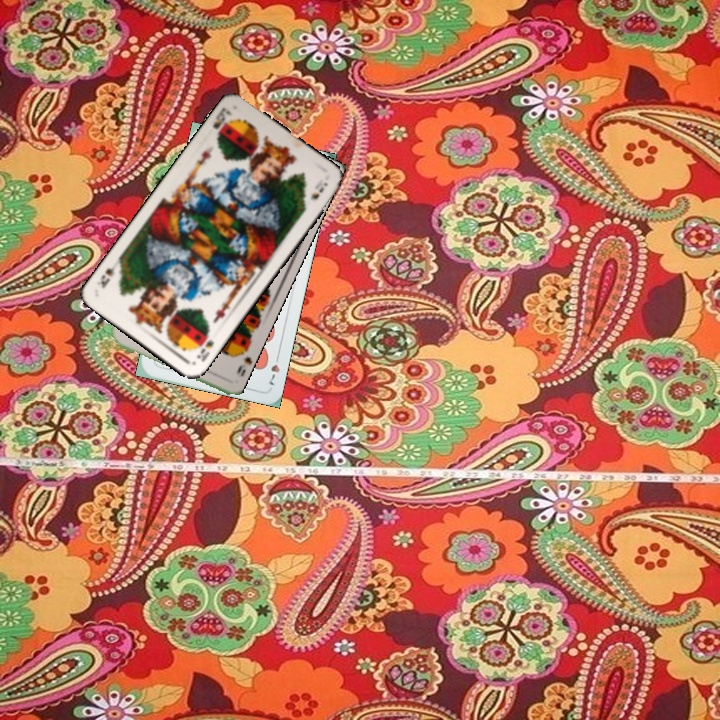H7: (265, 349, 282, 388)
S9: (232, 341, 251, 378)
SK: (208, 104, 235, 142), (192, 336, 217, 364)
